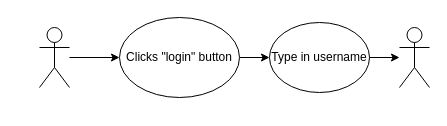
The diagram is 447 pixels wide and 126 high, and some of its shapes have lost their labels. Here are the shapes that lost their labels. From the top down, the centre of each, then its label:
(54,57): Moodipy User
(414,57): GUI
